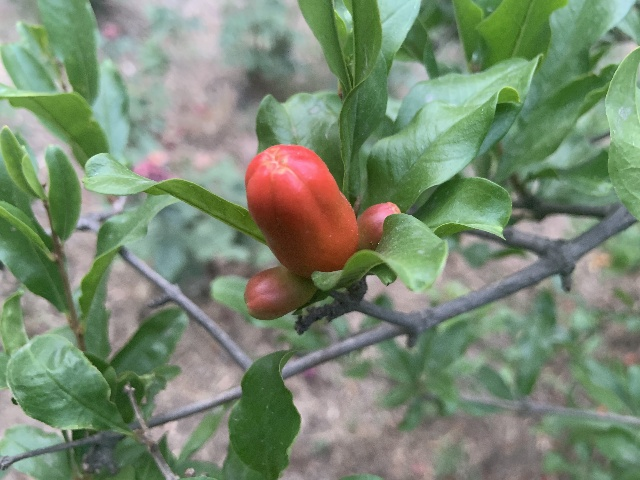bud: (244, 144, 358, 276), (245, 267, 314, 320), (358, 201, 400, 247)
